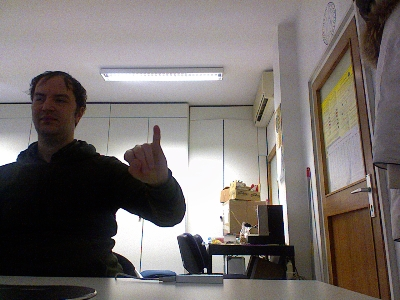小指: (123, 123, 170, 186)
